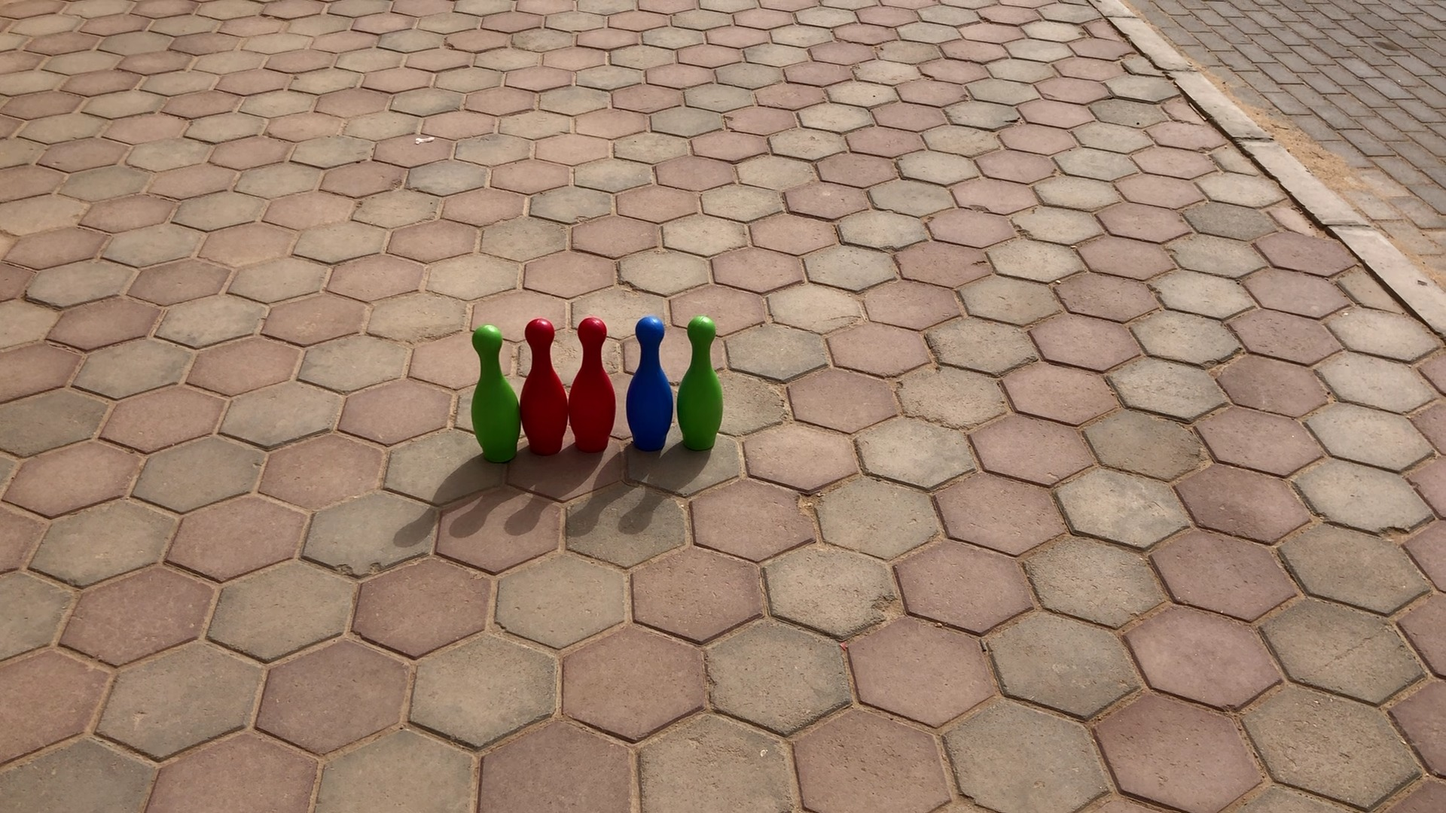pin: (475, 323, 523, 461), (518, 317, 565, 455), (571, 316, 619, 450), (628, 317, 674, 452), (679, 317, 723, 452)
